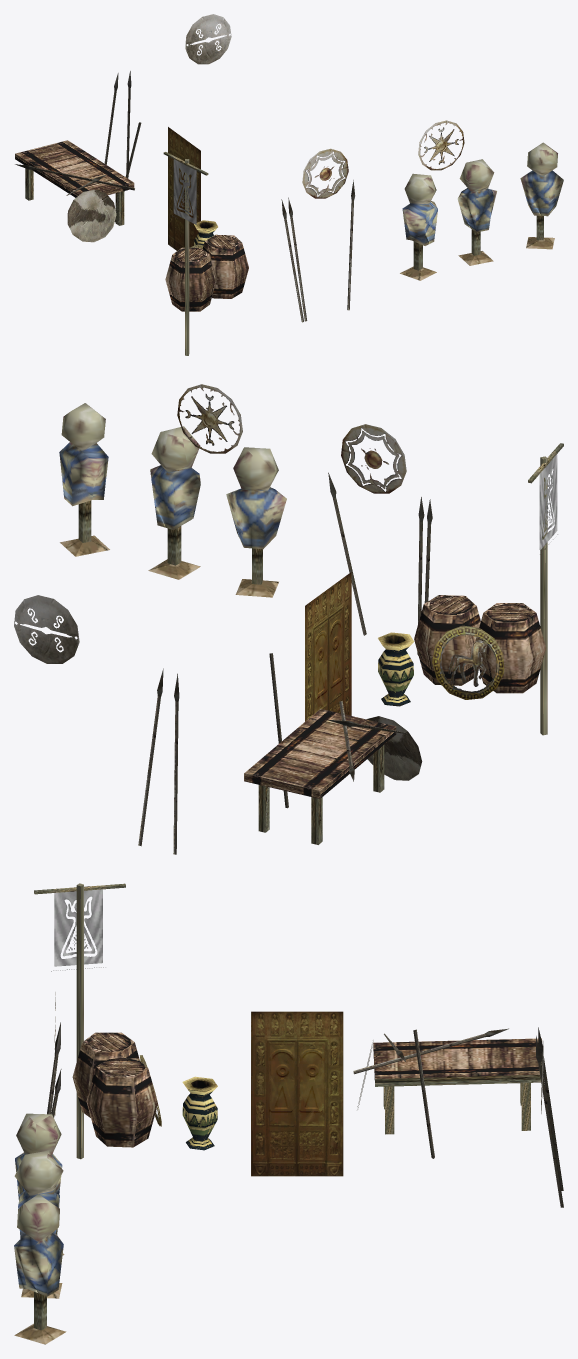
Rendered from kart_embassy_celtic_props.dae.
The picture shows the model from 3 angles, top to bottom: view 1: azimuth 30°, elevation 25°; view 2: azimuth 150°, elevation 25°; view 3: azimuth 270°, elevation 25°; orthographic projection. The views are drawn at different scales.
Parts seen in each view (by area): view 1: Object1011_001; view 2: Object1011_001; view 3: Object1011_001.
Part boxes in pixels (left/top/right/bottom): Object1011_001: left=15, top=14, right=563, bottom=355; Object1011_001: left=14, top=384, right=563, bottom=854; Object1011_001: left=14, top=883, right=563, bottom=1344.
Size of the model in its own units: 13.7 by 12.45 by 6.82.
